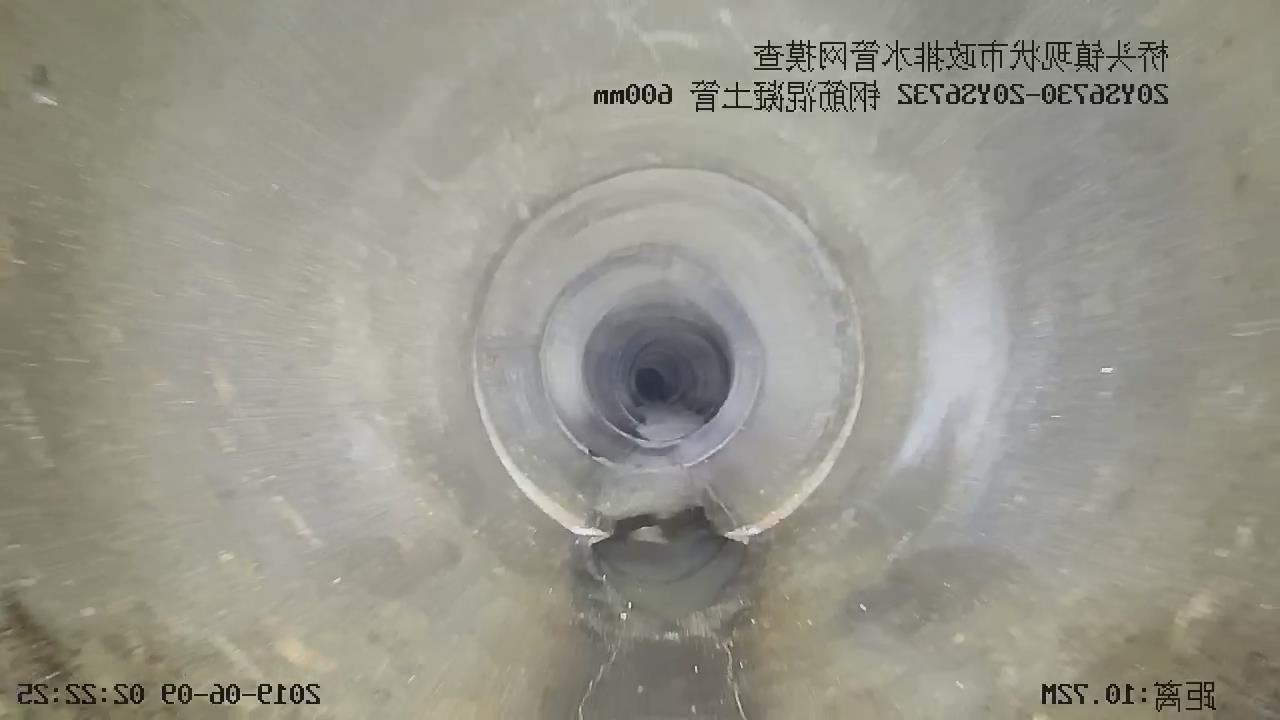CKTJ: (465, 163, 873, 550)
